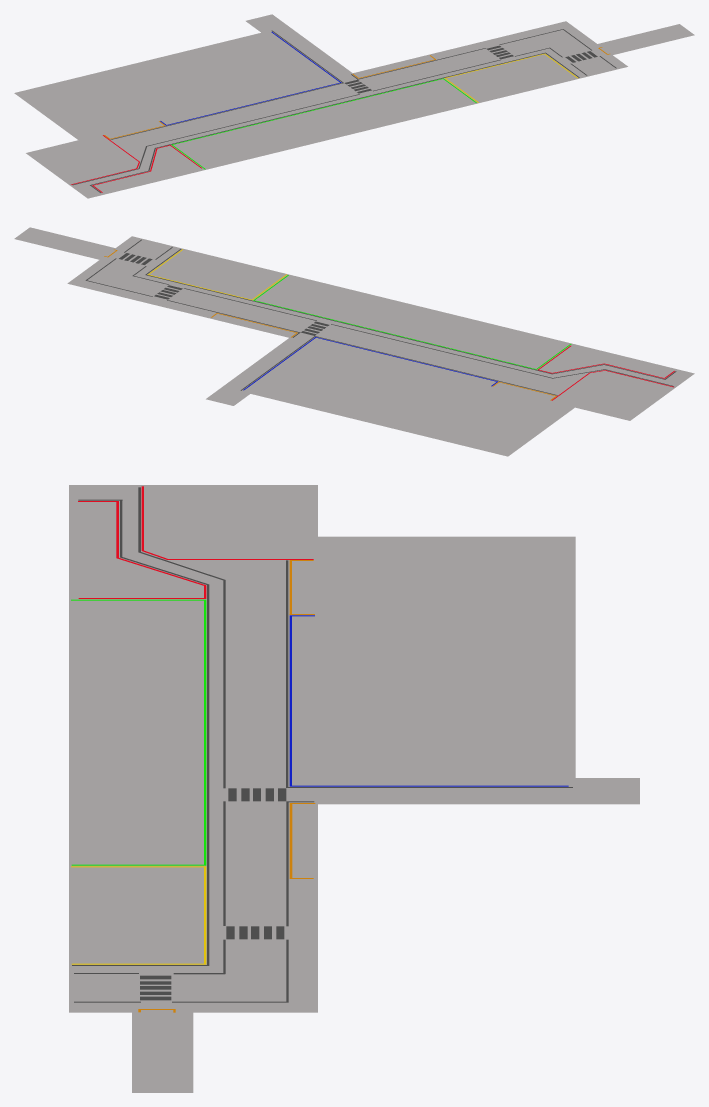
Rendered from plattegrond.glb.
The picture shows the model from 3 angles, top to bottom: view 1: azimuth 30°, elevation 25°; view 2: azimuth 150°, elevation 25°; view 3: azimuth 270°, elevation 25°; orthographic projection. The views are drawn at different scales.
Visible parts, largest first — view 1: Plattegrond mette, GRIJZE MARKERING, GROENE ZONE, RODE ZONE, BLAUWE ZONE; view 2: Plattegrond mette, GRIJZE MARKERING, GROENE ZONE, RODE ZONE, BLAUWE ZONE; view 3: Plattegrond mette, GRIJZE MARKERING, GROENE ZONE, BLAUWE ZONE, RODE ZONE.
Boxes of the visible parts, left/top/right/bottom form: Plattegrond mette: left=14, top=14, right=694, bottom=198; GRIJZE MARKERING: left=72, top=29, right=616, bottom=192; GROENE ZONE: left=171, top=78, right=476, bottom=169; RODE ZONE: left=71, top=135, right=201, bottom=192; BLAUWE ZONE: left=160, top=32, right=341, bottom=125; Plattegrond mette: left=14, top=227, right=694, bottom=456; GRIJZE MARKERING: left=85, top=239, right=676, bottom=395; GROENE ZONE: left=253, top=275, right=571, bottom=369; RODE ZONE: left=537, top=345, right=674, bottom=400; BLAUWE ZONE: left=243, top=337, right=497, bottom=390; Plattegrond mette: left=69, top=485, right=639, bottom=1092; GRIJZE MARKERING: left=72, top=487, right=572, bottom=1002; GROENE ZONE: left=71, top=599, right=206, bottom=865; BLAUWE ZONE: left=289, top=615, right=568, bottom=786; RODE ZONE: left=78, top=486, right=313, bottom=598.
Bounding box in the file's own units: 55.94 × 0.005 × 22.21.
